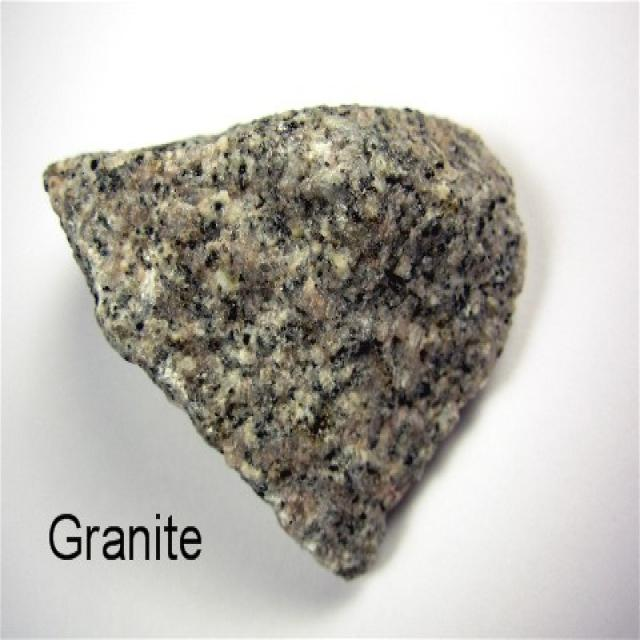Igneous: (36, 148, 585, 490)
